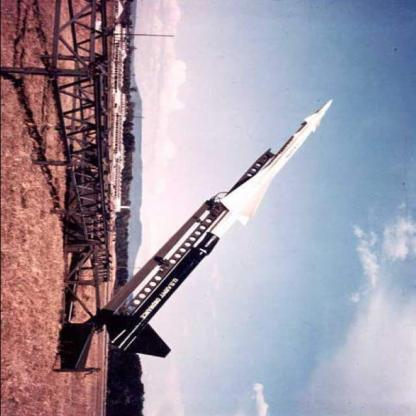MIL_TBM: (271, 97, 337, 177)
